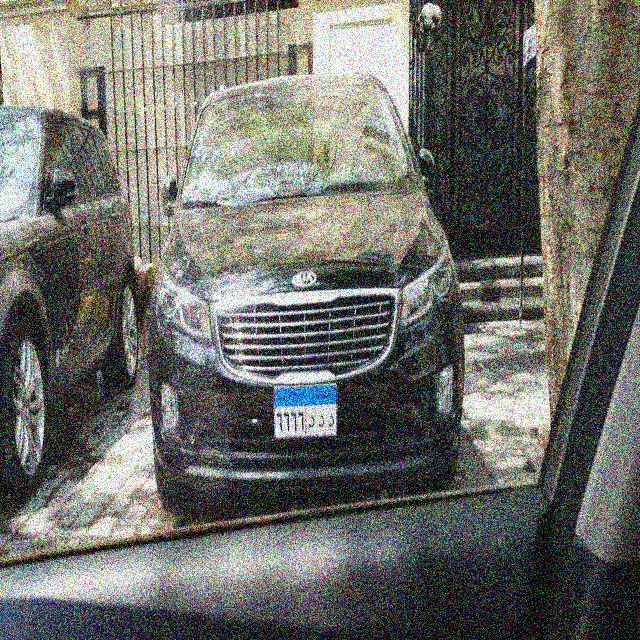License Plate: (272, 382, 339, 441)
